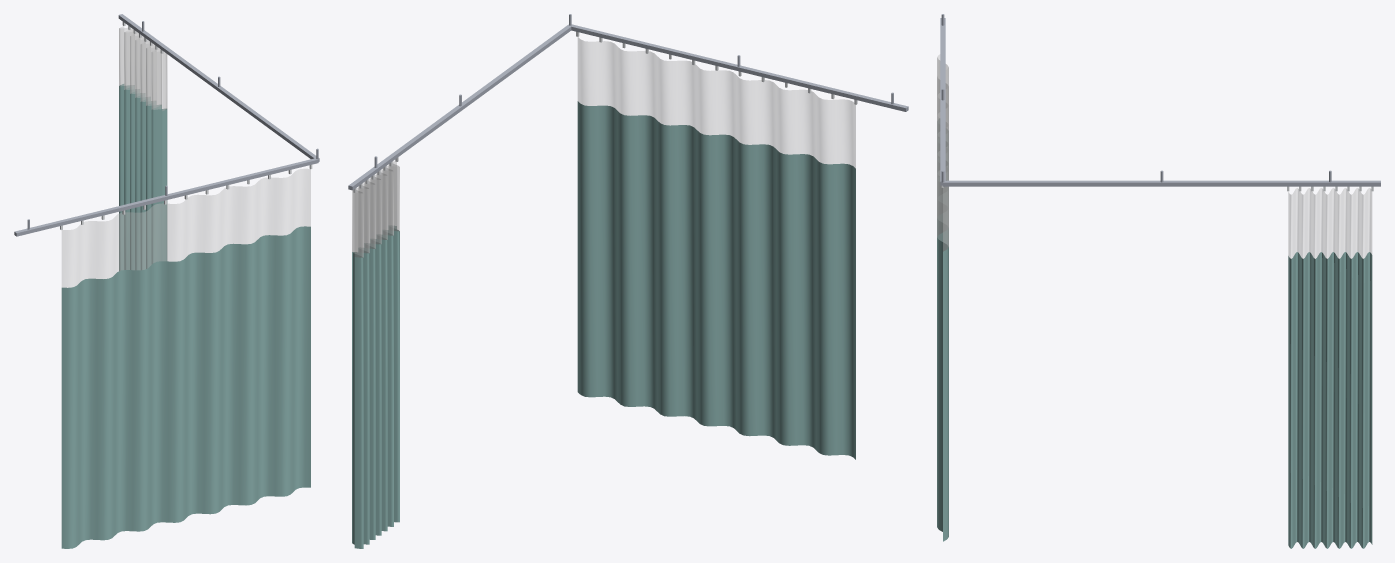
The model's file is hos-010.glb.
3 views of the same model, side by side, from view 1: azimuth 30°, elevation 25°; view 2: azimuth 150°, elevation 25°; view 3: azimuth 270°, elevation 25° (orthographic). The views are drawn at different scales.
Visible parts, largest first — view 1: curtain_fabric, curtain_mesh, steel; view 2: curtain_fabric, curtain_mesh, steel; view 3: curtain_fabric, curtain_mesh, steel.
Boxes of the visible parts, left/top/right/bottom form: curtain_fabric: left=61, top=84, right=310, bottom=548; curtain_mesh: left=62, top=26, right=310, bottom=287; steel: left=14, top=14, right=319, bottom=236; curtain_fabric: left=352, top=101, right=855, bottom=548; curtain_mesh: left=352, top=37, right=855, bottom=257; steel: left=348, top=14, right=908, bottom=190; curtain_fabric: left=937, top=213, right=1372, bottom=548; curtain_mesh: left=937, top=54, right=1371, bottom=258; steel: left=940, top=14, right=1380, bottom=186.
Size of the model in its own units: 2.35 by 2.45 by 2.63.
